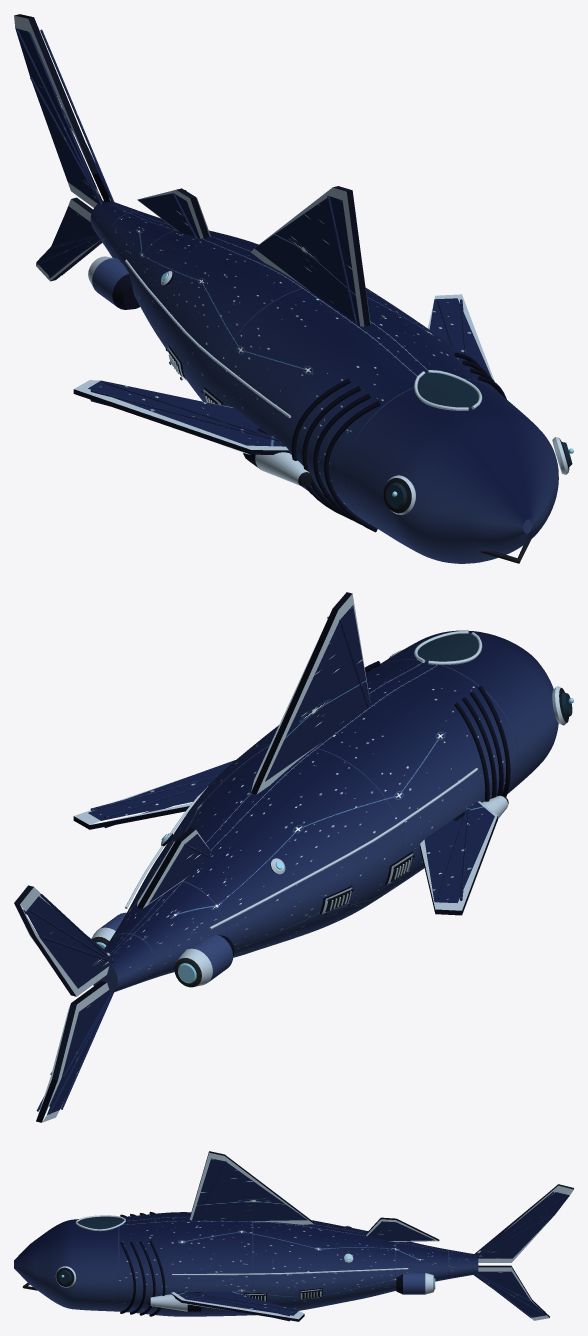
3 renders of one model, top to bottom at view 1: azimuth 30°, elevation 25°; view 2: azimuth 150°, elevation 25°; view 3: azimuth 270°, elevation 25°, orthographic. The views are drawn at different scales.
Visible parts, largest first — view 1: tiger_shark_hull; view 2: tiger_shark_hull; view 3: tiger_shark_hull.
Boxes of the visible parts, box(x1,y1,x2,y2) form: tiger_shark_hull: box(14, 14, 573, 563); tiger_shark_hull: box(14, 592, 573, 1122); tiger_shark_hull: box(14, 1151, 573, 1321).
Size of the model in its own units: 105 by 79.56 by 240.
1 material, 1 textured.
